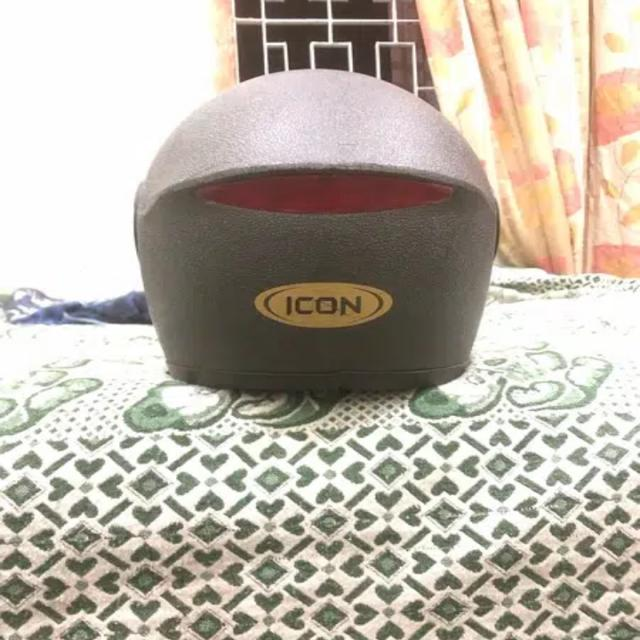Helmet: (124, 48, 508, 420)
